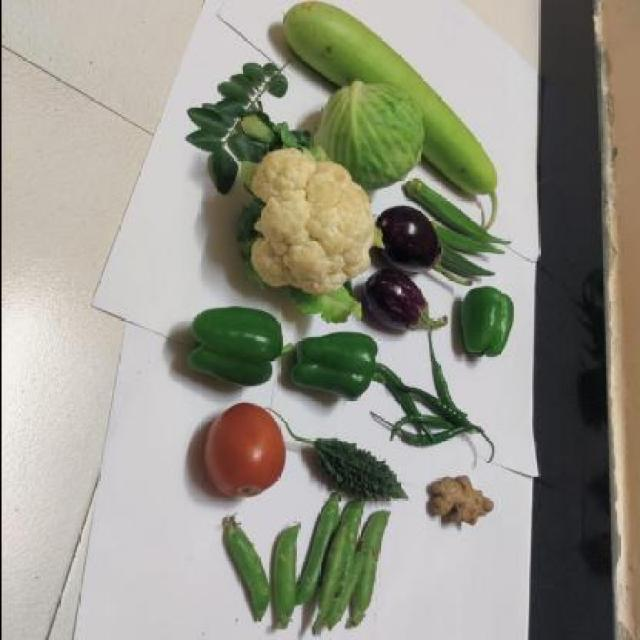Bitter melon: (308, 442, 407, 502)
Brinjal: (368, 270, 448, 336), (378, 206, 446, 280)
Cabbage: (328, 85, 420, 183)
Calabash: (284, 4, 498, 230)
Capsicum: (191, 304, 286, 388), (290, 329, 384, 398), (457, 284, 517, 358)
Cauliflower: (246, 147, 371, 310)
Ginger: (428, 475, 492, 523)
Green Chili: (372, 364, 490, 450)
Lady finger: (437, 200, 508, 285)
Tomato: (200, 401, 283, 497)
